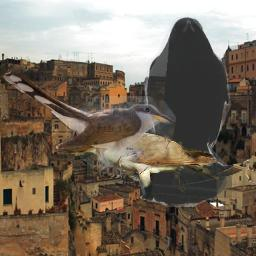Crow: (140, 17, 232, 207)
Cuckoo: (1, 64, 176, 176), (70, 130, 219, 201)
